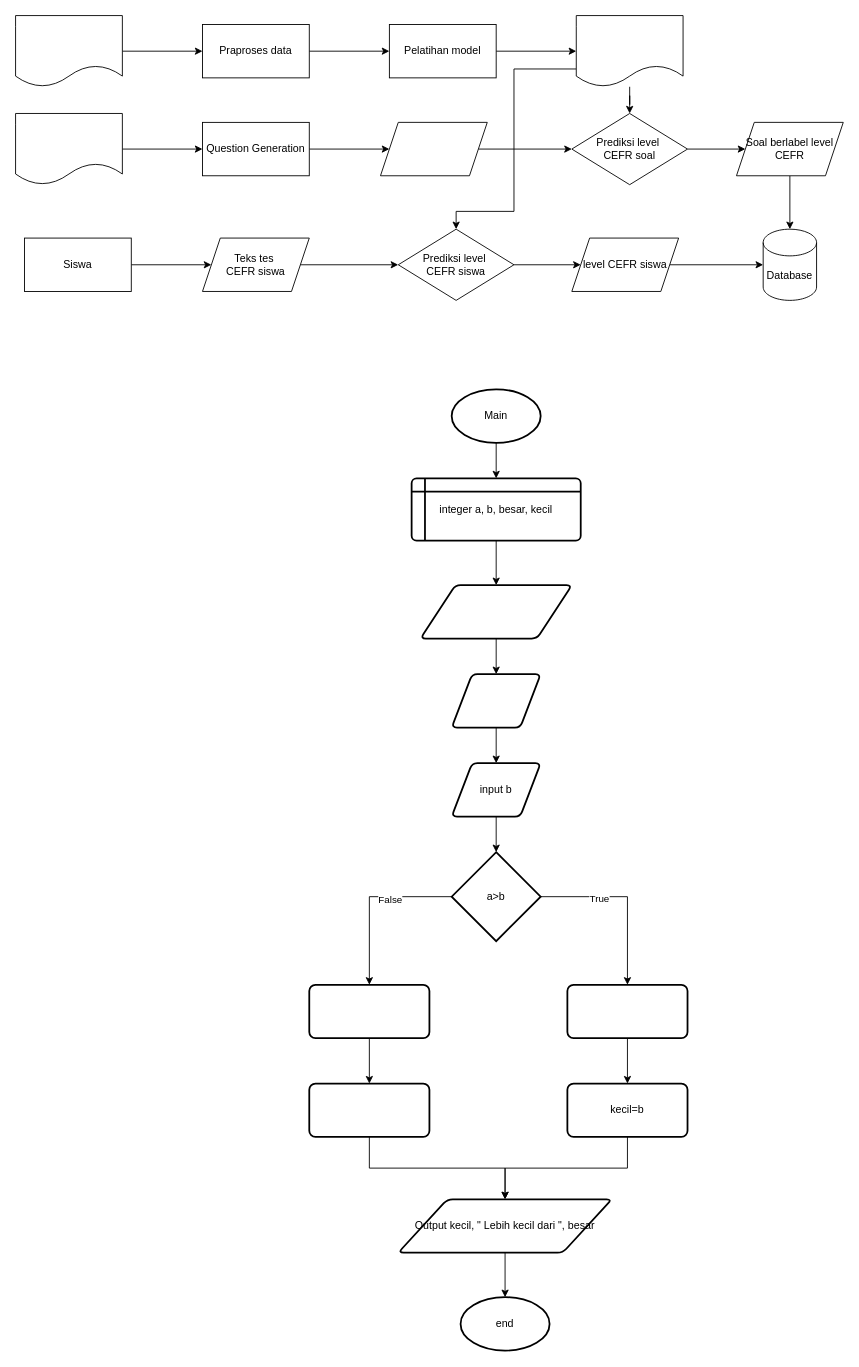
Some shapes in this 859 by 1367 pixel diagram are drawn without their labels. The shapes that lost their labels are listed below. From the top down, each one's centre as x and y in pixels, then its label:
point (68, 51): Dataset CEFR
point (629, 51): Model klasifikasi CEFR
point (68, 149): Artikel
point (433, 148): Soal
point (495, 611): output:"Masukan 2 buah bilagan
point (495, 700): input a
point (369, 1011): besar=b
point (627, 1011): besar=a
point (369, 1109): kecil=a
